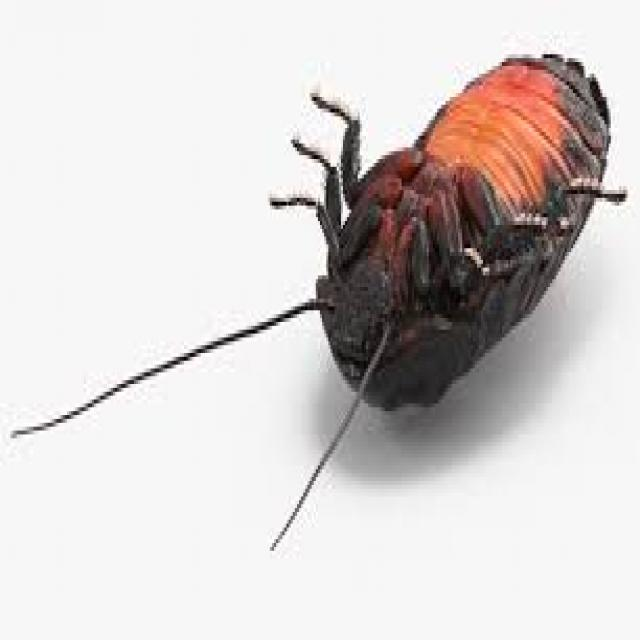Cockroach: (0, 30, 640, 569)
